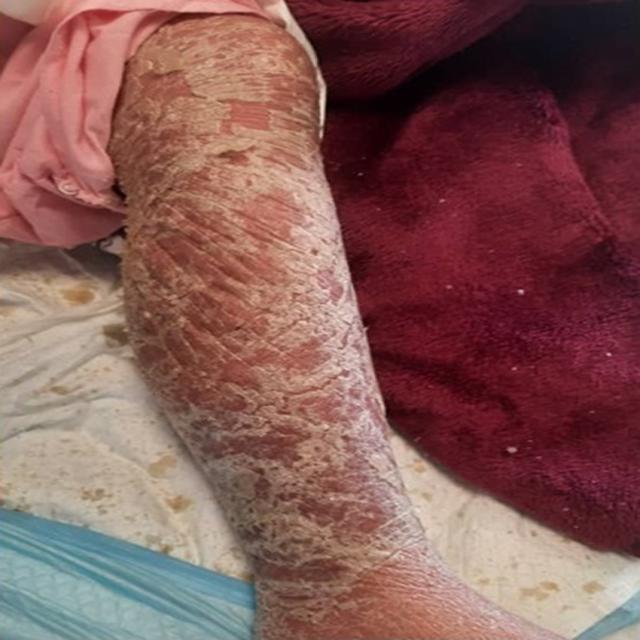Psoriasis Eritrodermica: (100, 9, 554, 640)
